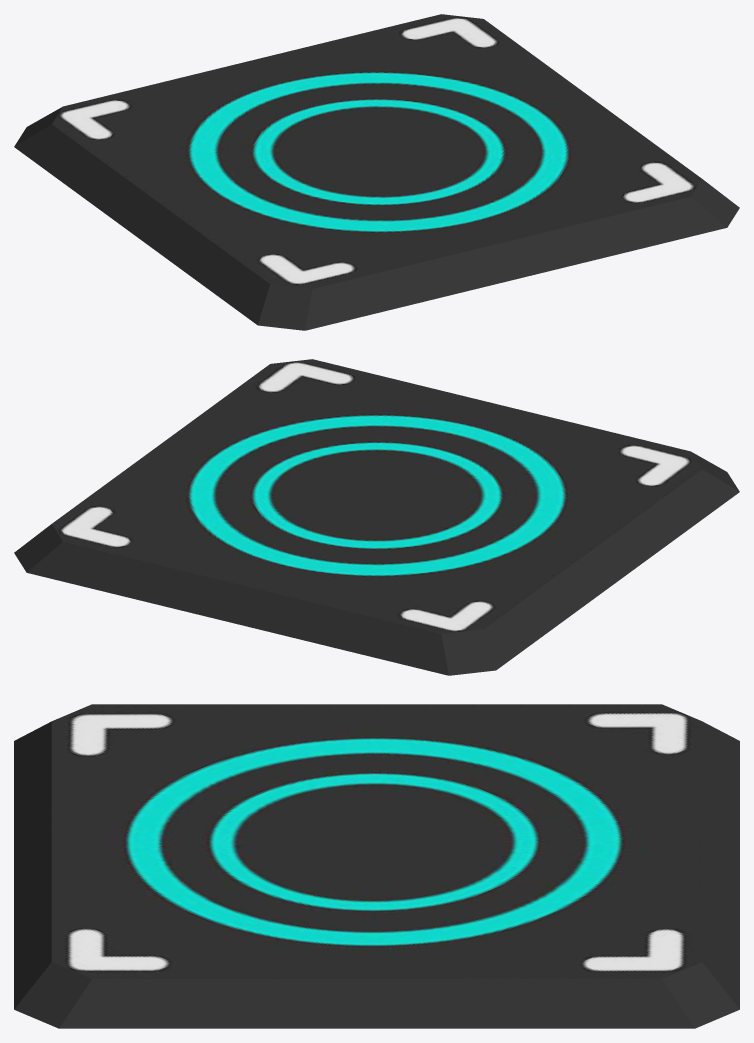
Rendered from checkpoint.FBX.
3 renders of one model, top to bottom at view 1: azimuth 30°, elevation 25°; view 2: azimuth 150°, elevation 25°; view 3: azimuth 270°, elevation 25°, orthographic. The views are drawn at different scales.
Parts seen in each view (by area): view 1: Plane001; view 2: Plane001; view 3: Plane001.
Boxes of the visible parts, x1,y1,x2,y2 form: Plane001: [14, 14, 739, 330]; Plane001: [14, 359, 739, 675]; Plane001: [14, 704, 739, 1028].
Bounding box in the file's own units: 33.48 × 1.71 × 33.48.
Materials: 1 (1 with a texture image).
